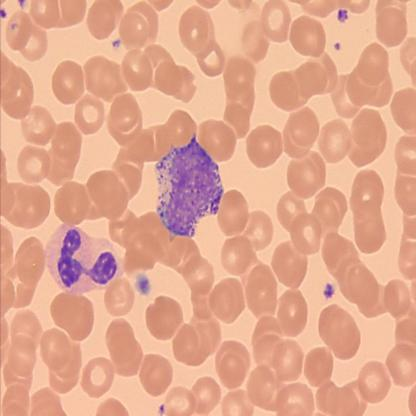Myelocyte: (154, 138, 226, 236), (42, 224, 121, 291)
